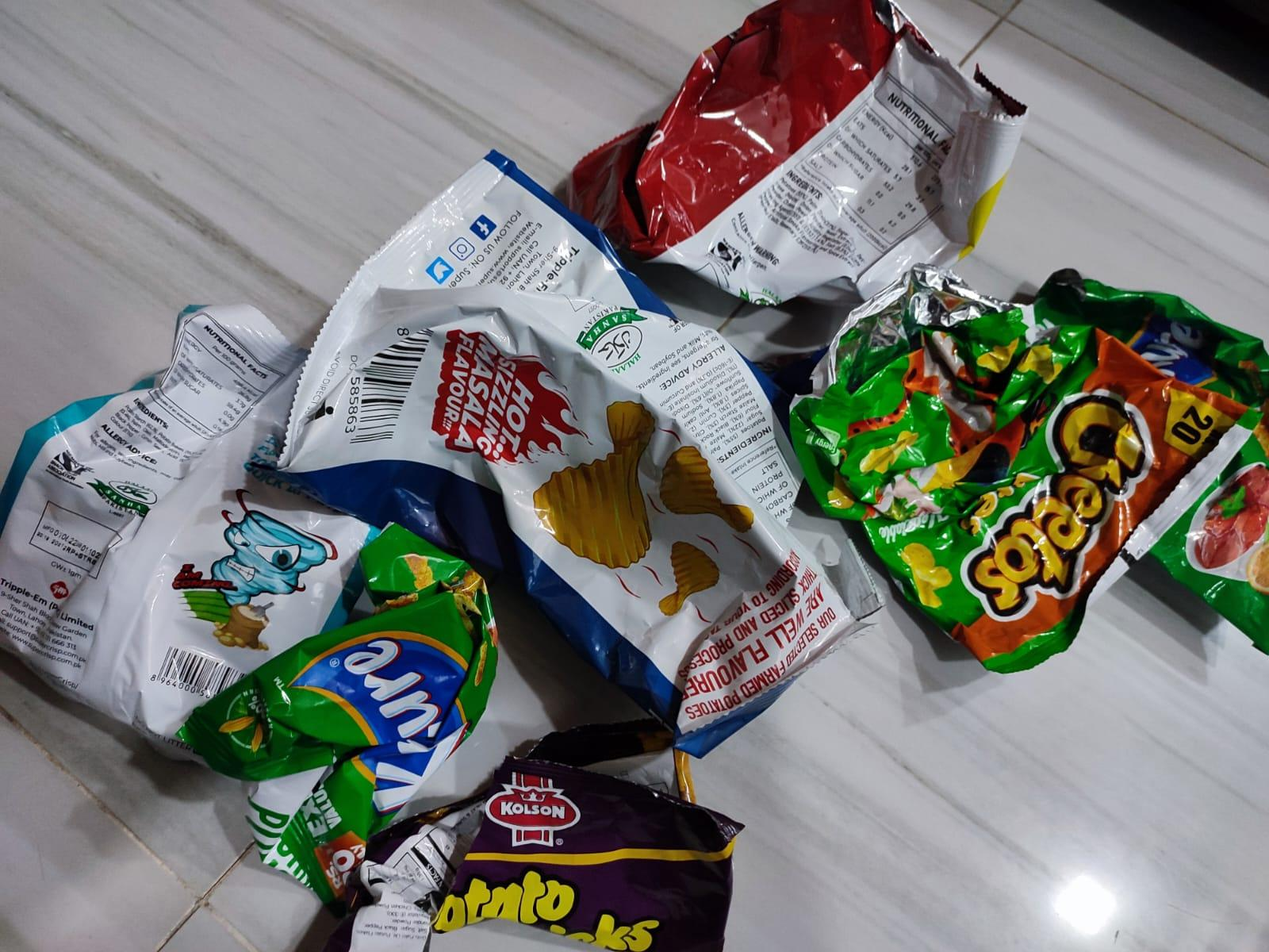garbage: (76, 44, 1269, 952)
